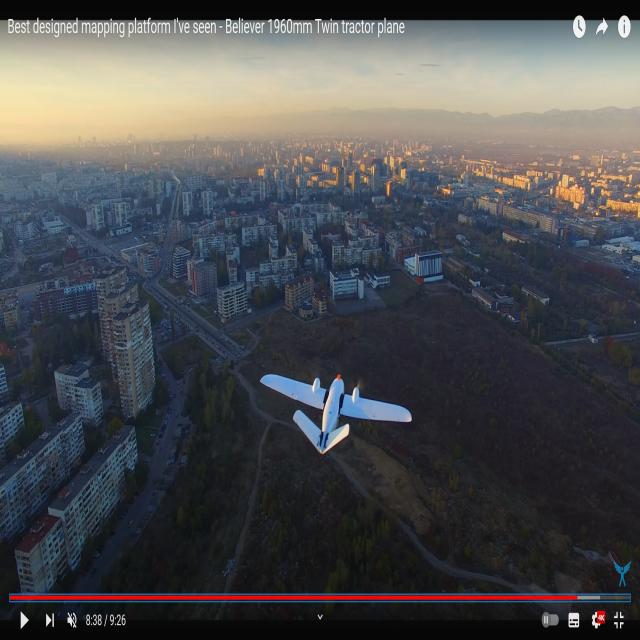iha: (259, 404, 411, 423)
